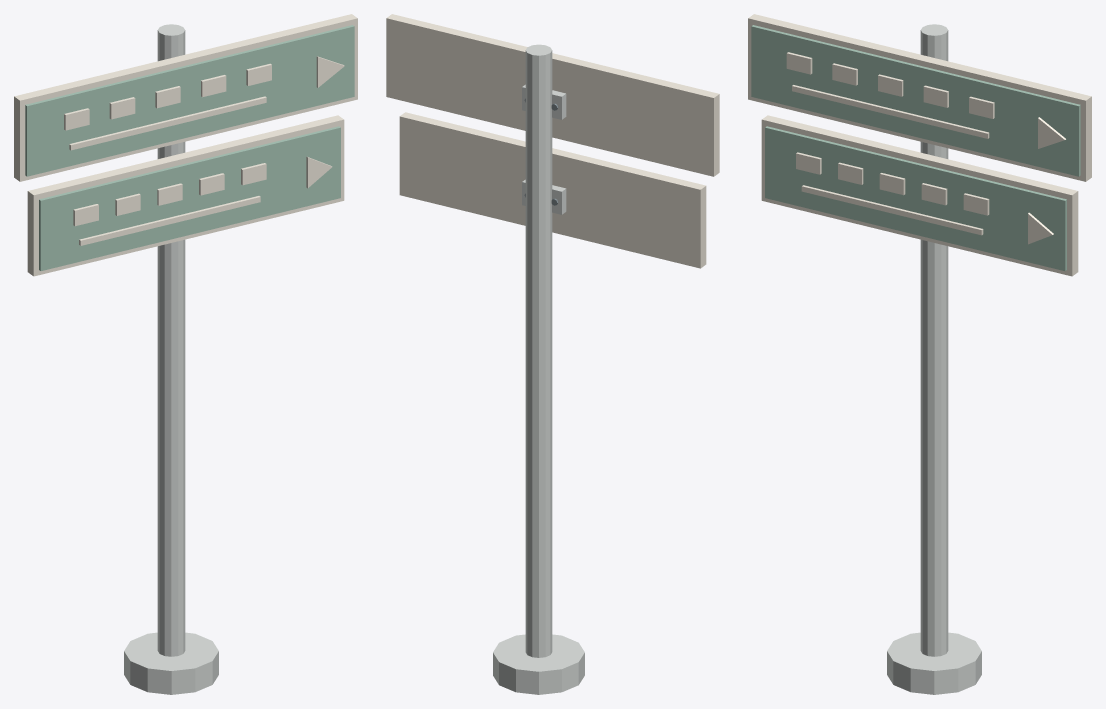
Rendered from prop-signpost.glb.
3 views of the same model, side by side, from view 1: azimuth 30°, elevation 25°; view 2: azimuth 150°, elevation 25°; view 3: azimuth 330°, elevation 25° (orthographic). The views are drawn at different scales.
Visible parts, largest first — view 1: green_face_3, border_2, foot_0; view 2: border_2, foot_0; view 3: green_face_3, border_2, foot_0.
Boxes of the visible parts, x1,y1,x2,y2 form: green_face_3: (25, 25, 354, 270); border_2: (14, 14, 357, 276); foot_0: (124, 24, 218, 694); border_2: (386, 14, 719, 268); foot_0: (493, 44, 584, 694); green_face_3: (751, 25, 1080, 270); border_2: (748, 14, 1091, 276); foot_0: (887, 24, 981, 694).
Bounding box in the file's own units: 1.48 × 2.7 × 0.3599.
